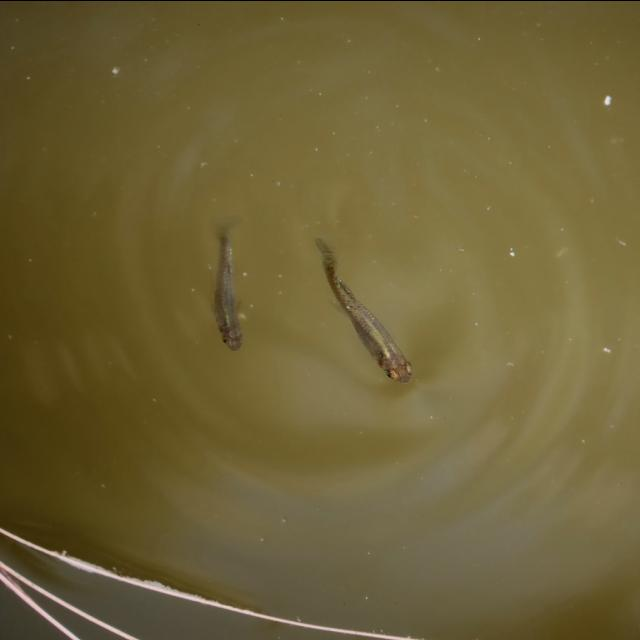Sivrisinek Baligi: (314, 236, 416, 384), (190, 205, 264, 358)
